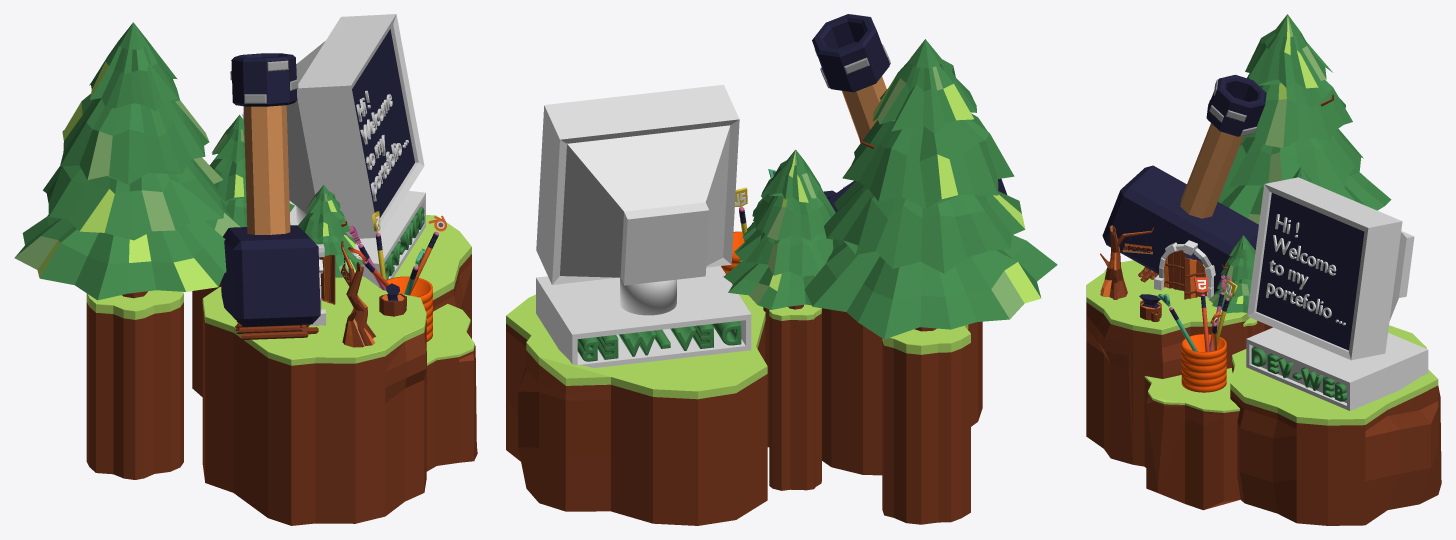
Rendered from modelPorteFolio.glb.
3 renders of one model, left to right at view 1: azimuth 30°, elevation 25°; view 2: azimuth 150°, elevation 25°; view 3: azimuth 270°, elevation 25°, orthographic. The views are drawn at different scales.
Parts seen in each view (by area): view 1: Cylinder; view 2: Cylinder; view 3: Cylinder.
Boxes of the visible parts, <box> form: Cylinder: <box>14,14,477,525</box>; Cylinder: <box>506,14,1057,525</box>; Cylinder: <box>1086,14,1441,525</box>.
Bounding box in the file's own units: 19.39 × 18.47 × 15.72.
